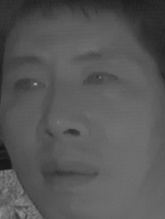eye: (80, 69, 119, 92), (13, 74, 46, 97)
mouth: (35, 154, 98, 192)
